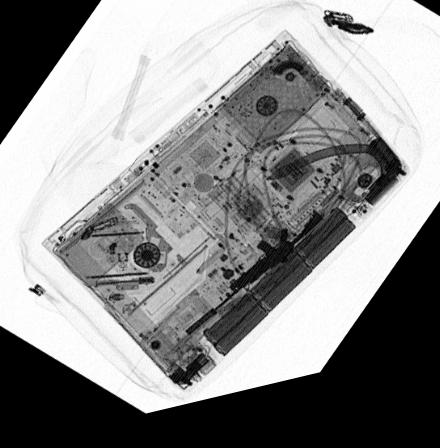Gun: (180, 221, 324, 348)
